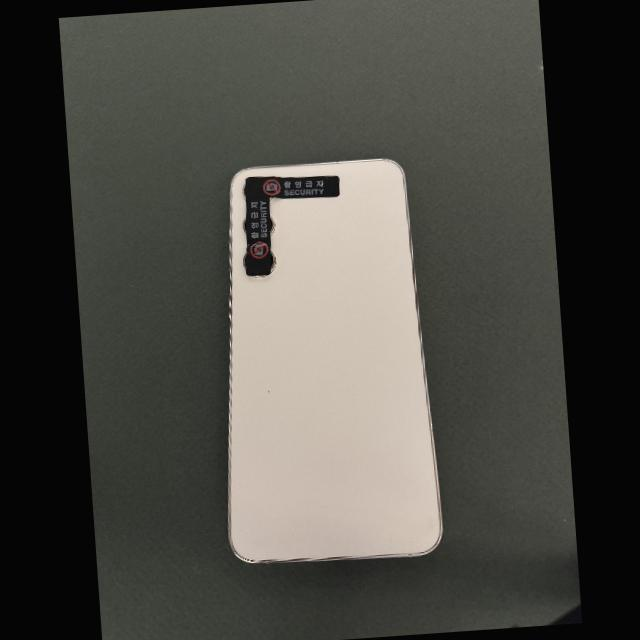lens: (271, 252, 275, 271), (270, 216, 274, 234), (242, 183, 245, 199)
phone: (228, 159, 441, 562)
sticker: (245, 175, 339, 199), (246, 197, 270, 276)
